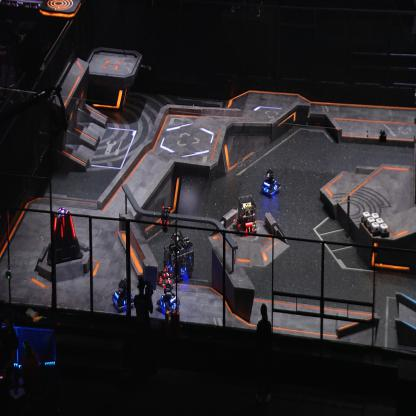car: (162, 230, 195, 280), (235, 193, 258, 234), (156, 282, 181, 314), (112, 277, 134, 312), (260, 168, 282, 196), (157, 259, 174, 289)
